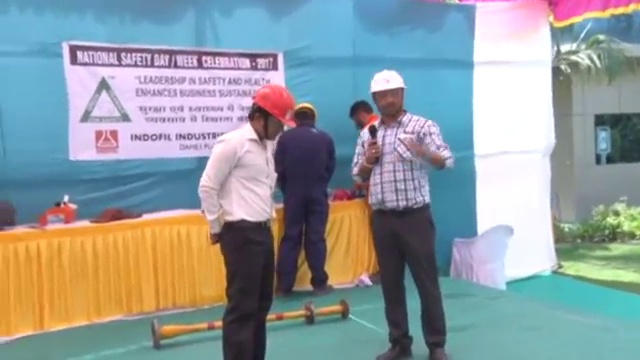helmet: (253, 83, 299, 129), (367, 68, 409, 94), (293, 102, 319, 119)
helmet_off: (347, 99, 376, 131)
helmet_on: (246, 83, 299, 145), (366, 68, 410, 124), (292, 101, 320, 130)
person: (352, 68, 453, 359), (198, 83, 298, 360), (276, 102, 339, 300)
